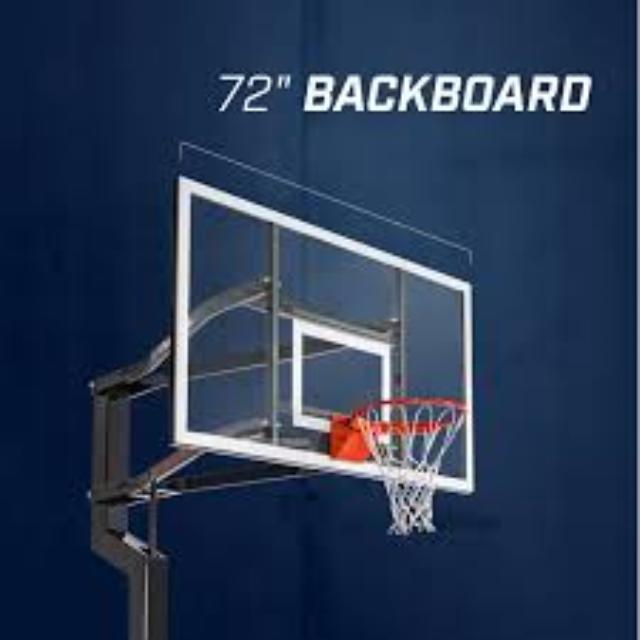rim: (355, 397, 463, 533)
